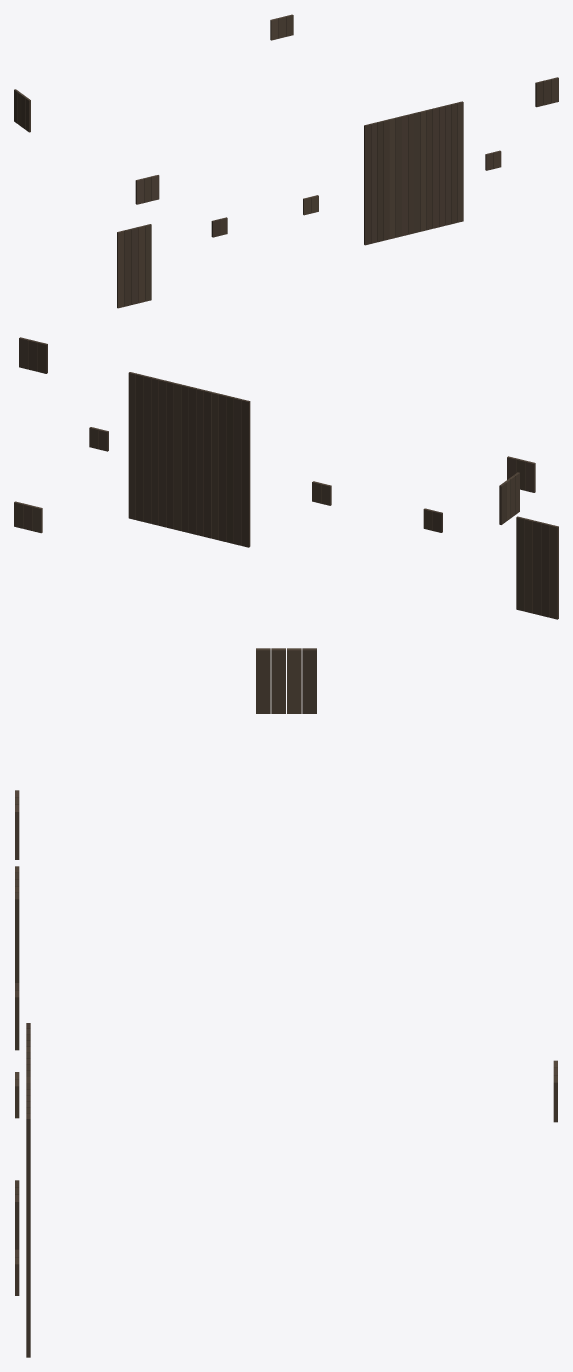
Rendered from SM_Bld_004_Wood.glb.
The picture shows the model from 3 angles, top to bottom: view 1: azimuth 30°, elevation 25°; view 2: azimuth 150°, elevation 25°; view 3: azimuth 270°, elevation 25°; orthographic projection. The views are drawn at different scales.
Parts seen in each view (by area): view 1: SM_Bld_004_Wood; view 2: SM_Bld_004_Wood; view 3: SM_Bld_004_Wood.
Boxes of the visible parts, x1=… form: SM_Bld_004_Wood: x1=14, y1=14, x2=558, y2=308; SM_Bld_004_Wood: x1=14, y1=337, x2=558, y2=619; SM_Bld_004_Wood: x1=15, y1=648, x2=557, y2=1357.
Bounding box in the file's own units: 12.36 × 4.29 × 6.19.
